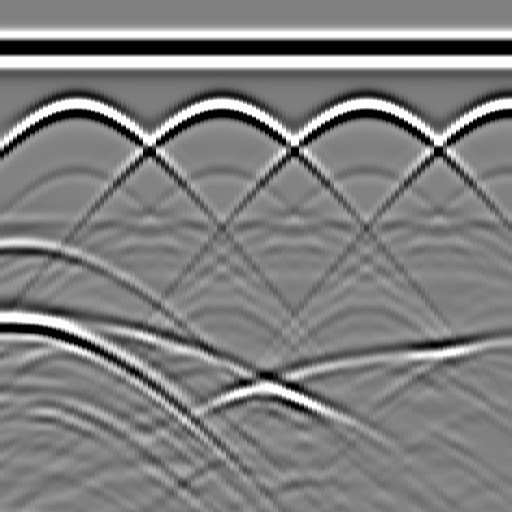grout_surface: (1, 208, 512, 238)
rebar: (55, 87, 95, 127), (199, 87, 239, 127), (344, 87, 384, 127), (488, 87, 512, 127)
rock_surface: (1, 320, 511, 393)
